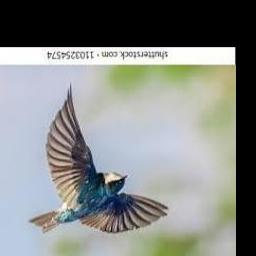Swallow: (28, 83, 169, 236)
